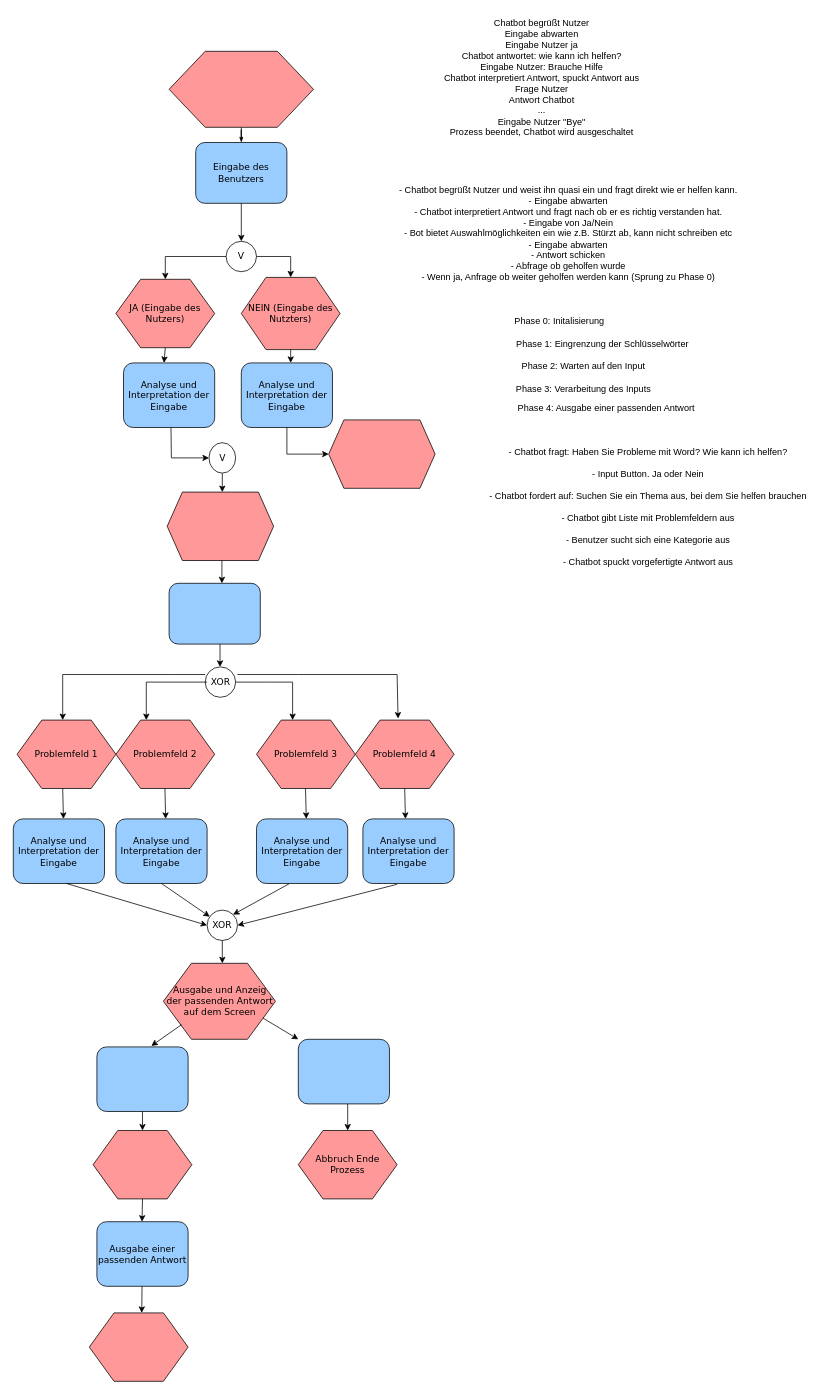
Some shapes in this 828 by 1395 pixel diagram are drawn without their labels. The shapes that lost their labels are listed below. From the top down, each one's centre as x and y in pixels, then its label:
point 241,89: Chatbot begrüßt Nutzer, fragt diesen ob er Hilfe braucht
point 381,453: Chatbot wird beendet
point 220,525: Chatbot gibt Liste mit Problemfeldern aus
point 214,613: Auswahl eines Problemfelds durch den User
point 142,1079: Neue Eingabe/Auswahl eines weiteren Problemfelds
point 344,1071: Neue Eingabe des Nutzers "Bye"
point 142,1164: Verarbeitung Eingabe
point 138,1346: Anzeigen der Antwort auf dem Bildschirm
